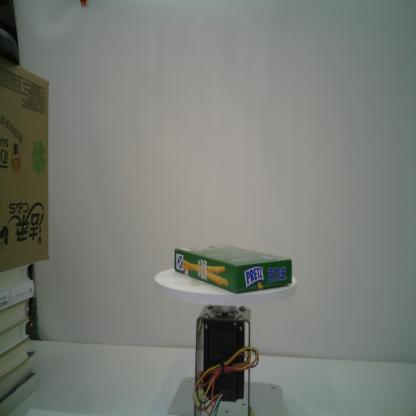Dessert: (173, 244, 293, 294)
